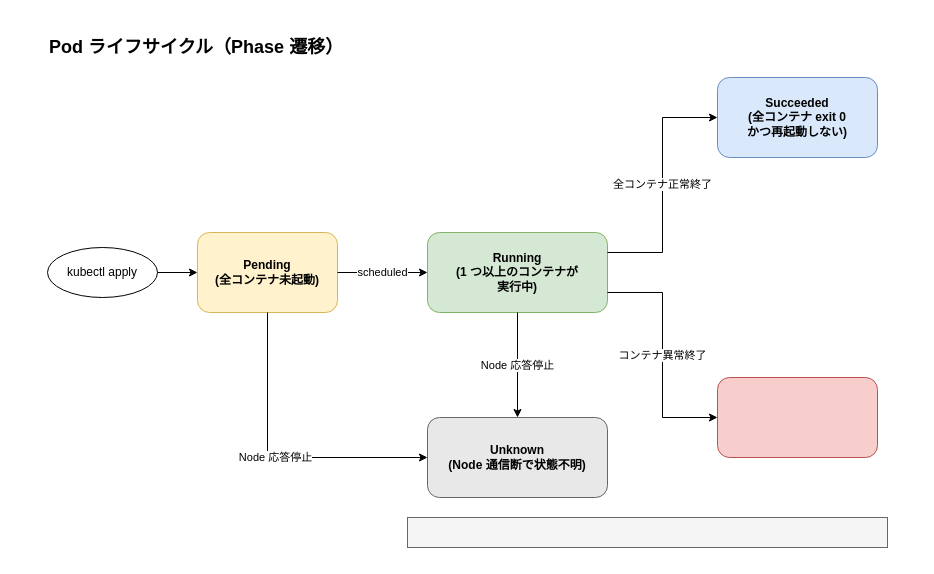
The diagram is 934 pixels wide and 574 high, and some of its shapes have lost their labels. Each missing label, with the centre of its shape:
Failed (少なくとも 1 つ 異常終了): [797,417]
凡例（Phase 色の意味）: [647,532]
